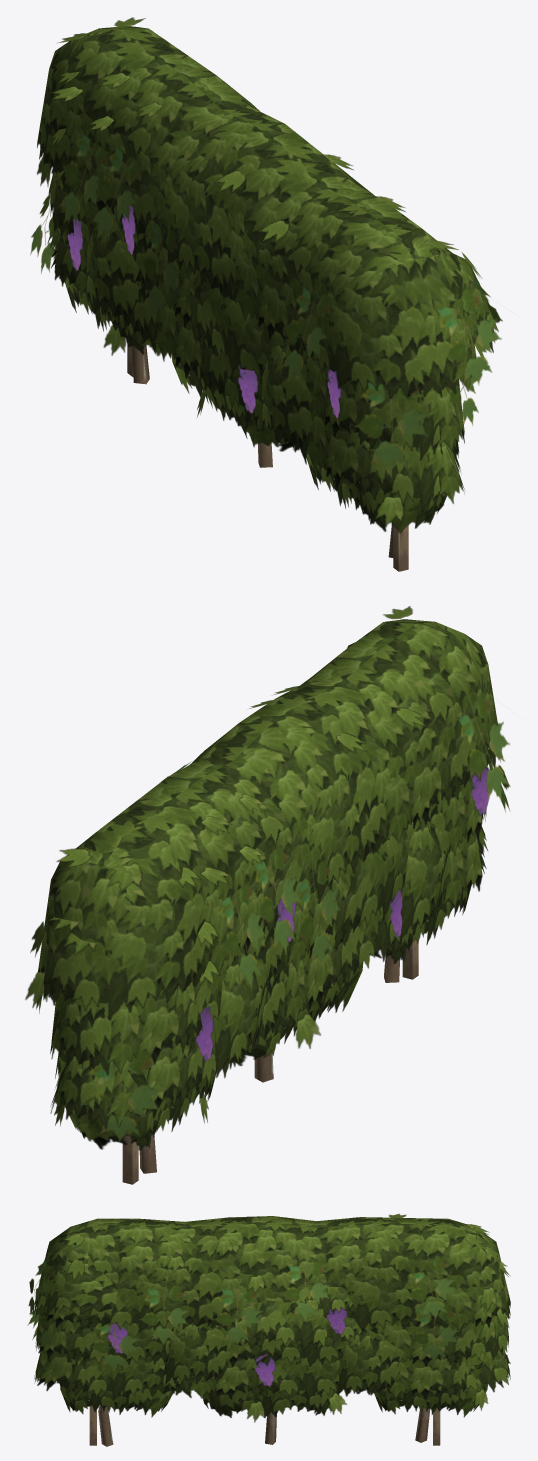
3 views of the same model, one above another, from view 1: azimuth 30°, elevation 25°; view 2: azimuth 150°, elevation 25°; view 3: azimuth 270°, elevation 25° (orthographic). The views are drawn at different scales.
Visible parts, largest first — view 1: um_t1_pl032_model_t1_pl032_modelShape; view 2: um_t1_pl032_model_t1_pl032_modelShape; view 3: um_t1_pl032_model_t1_pl032_modelShape.
Part boxes in pixels (x1,y1,x2,y2): um_t1_pl032_model_t1_pl032_modelShape: (30,17,502,571); um_t1_pl032_model_t1_pl032_modelShape: (25,606,510,1184); um_t1_pl032_model_t1_pl032_modelShape: (27,1213,510,1446).
Size of the model in its own units: 1.3 by 2.03 by 4.26.
2 materials, 2 textured.
